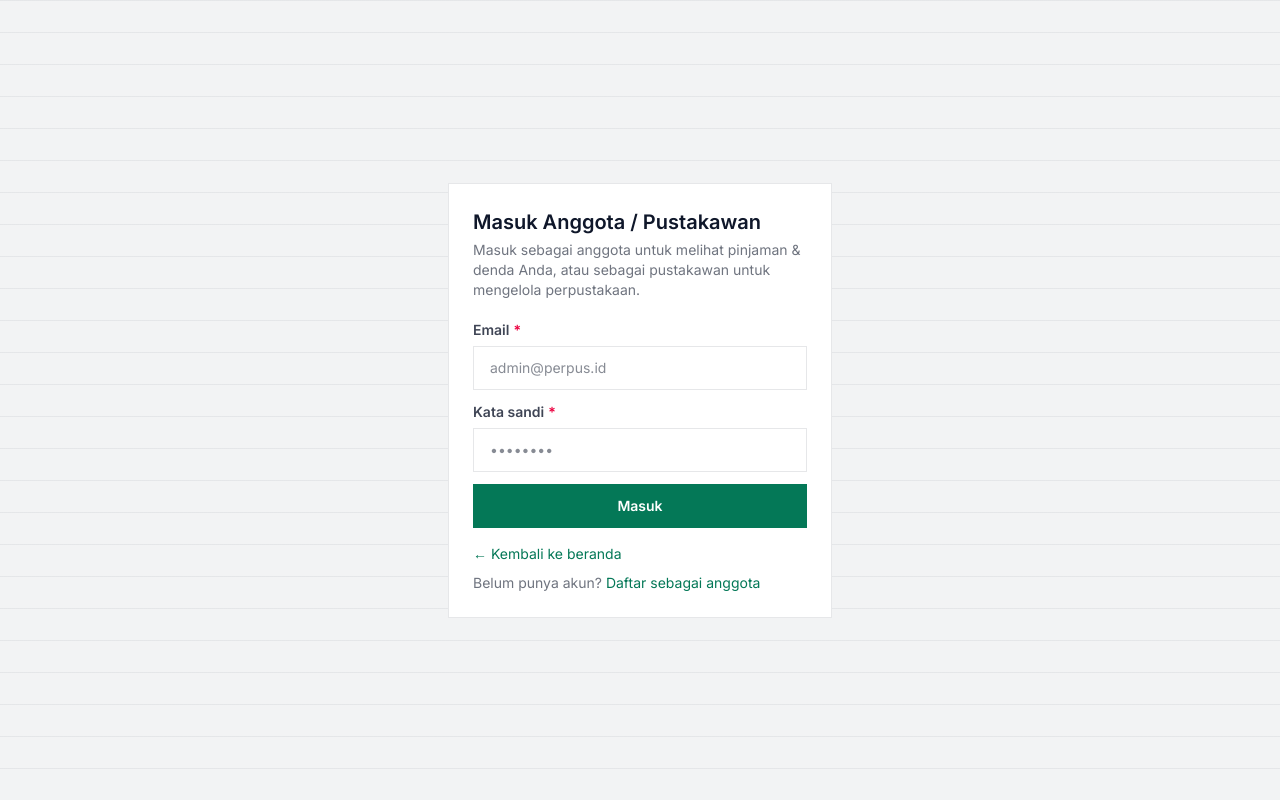
Test: public client pages › login failure shows wrong credentials
In the field labelled "Email*": coordinates (640, 368) [473,346,807,390], type "a@b.c"
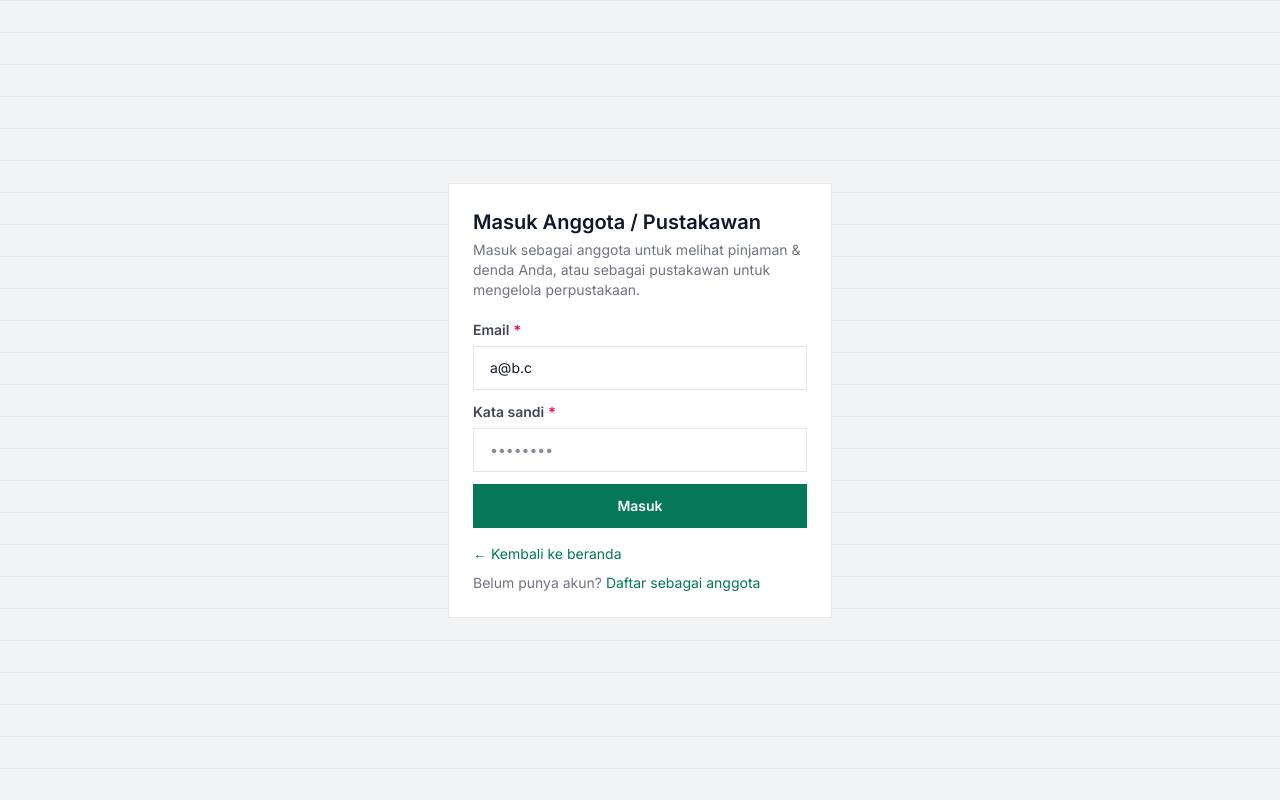
In the password field labelled "Kata sandi*": coordinates (640, 450) [473,428,807,472], type "salah"
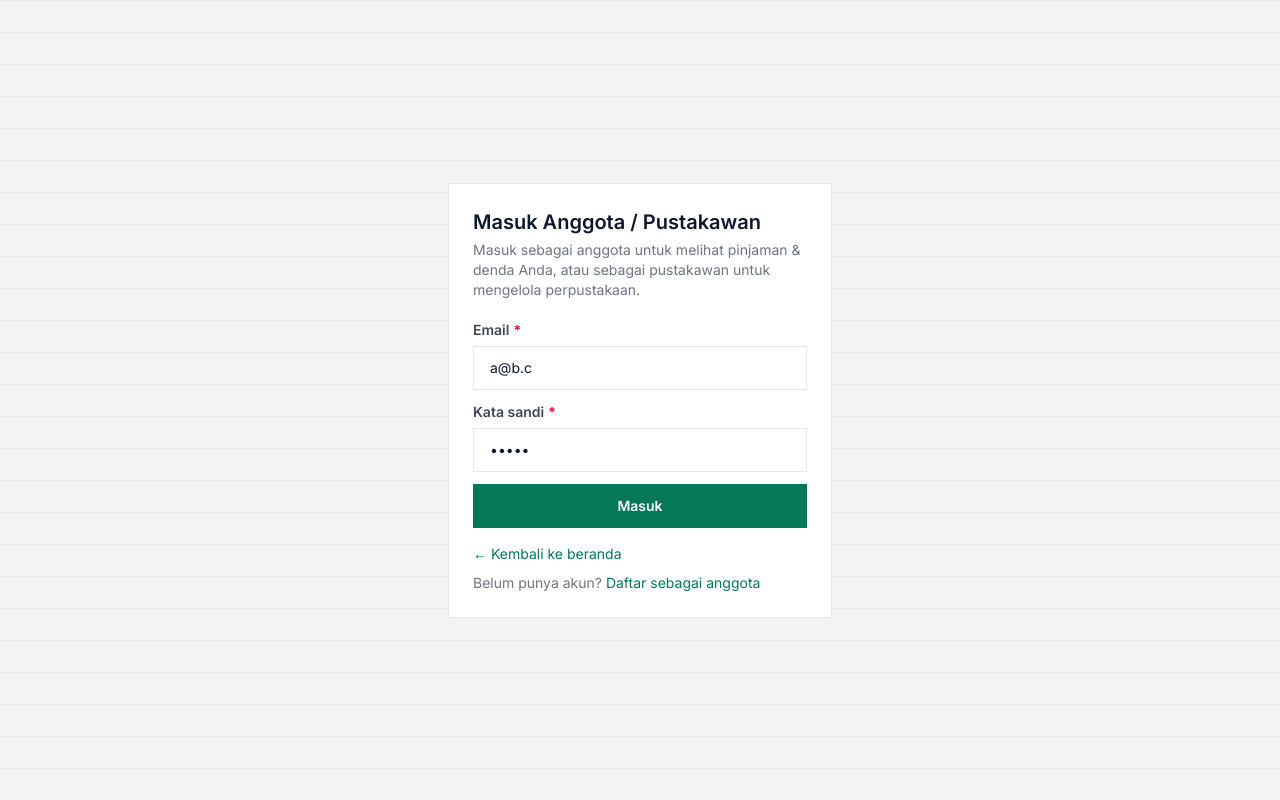
Submit the form labelled "Email* Kata sandi* Masuk", box [473,320,807,528]
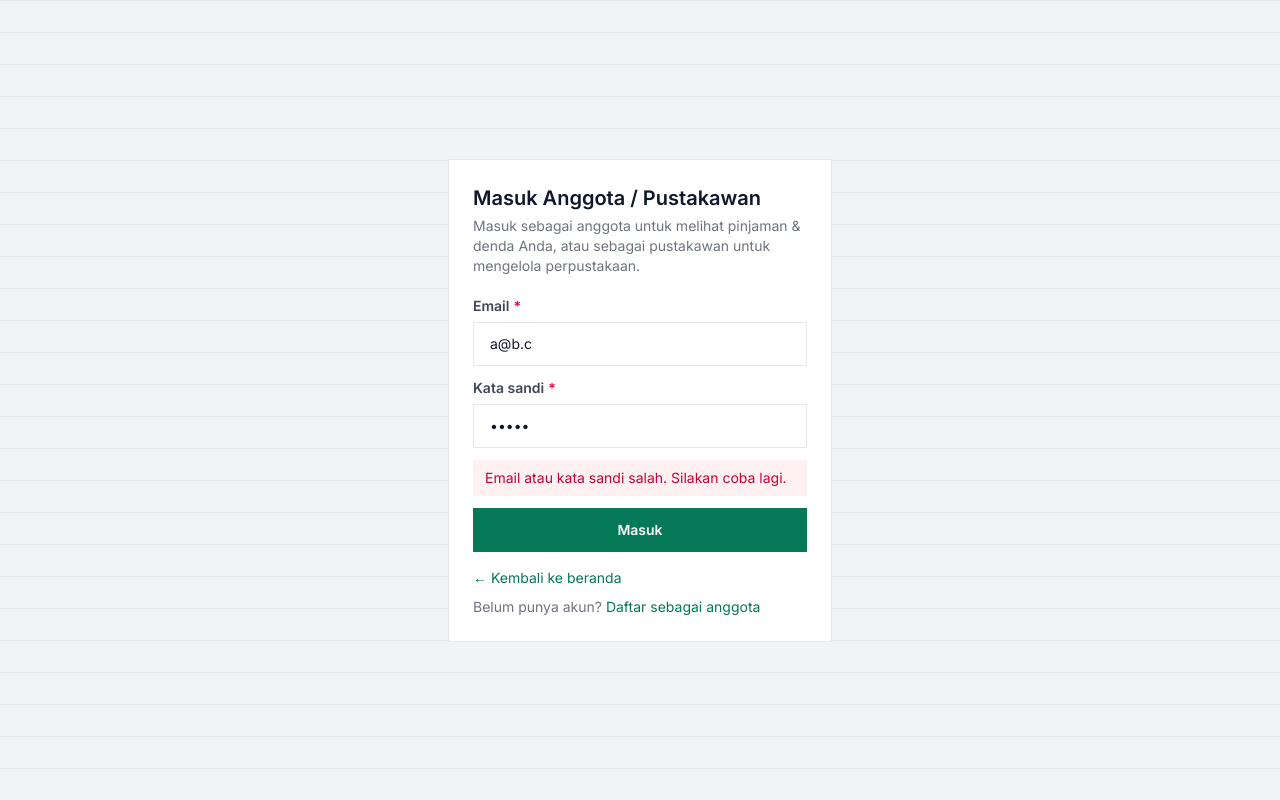
Check: the text "Email atau kata sandi salah. Silakan coba lagi." is shown, box [473,460,807,496]
